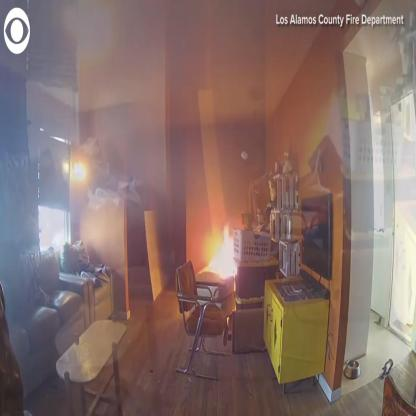fire: (204, 225, 240, 275)
